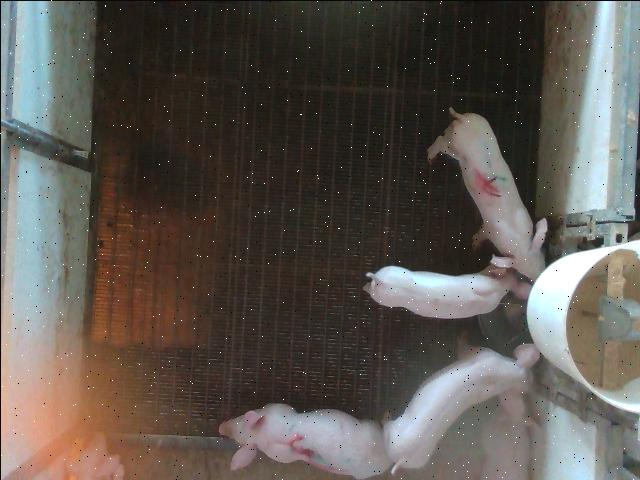pig-3: (219, 402, 390, 477)
pig-4: (426, 108, 546, 279)
